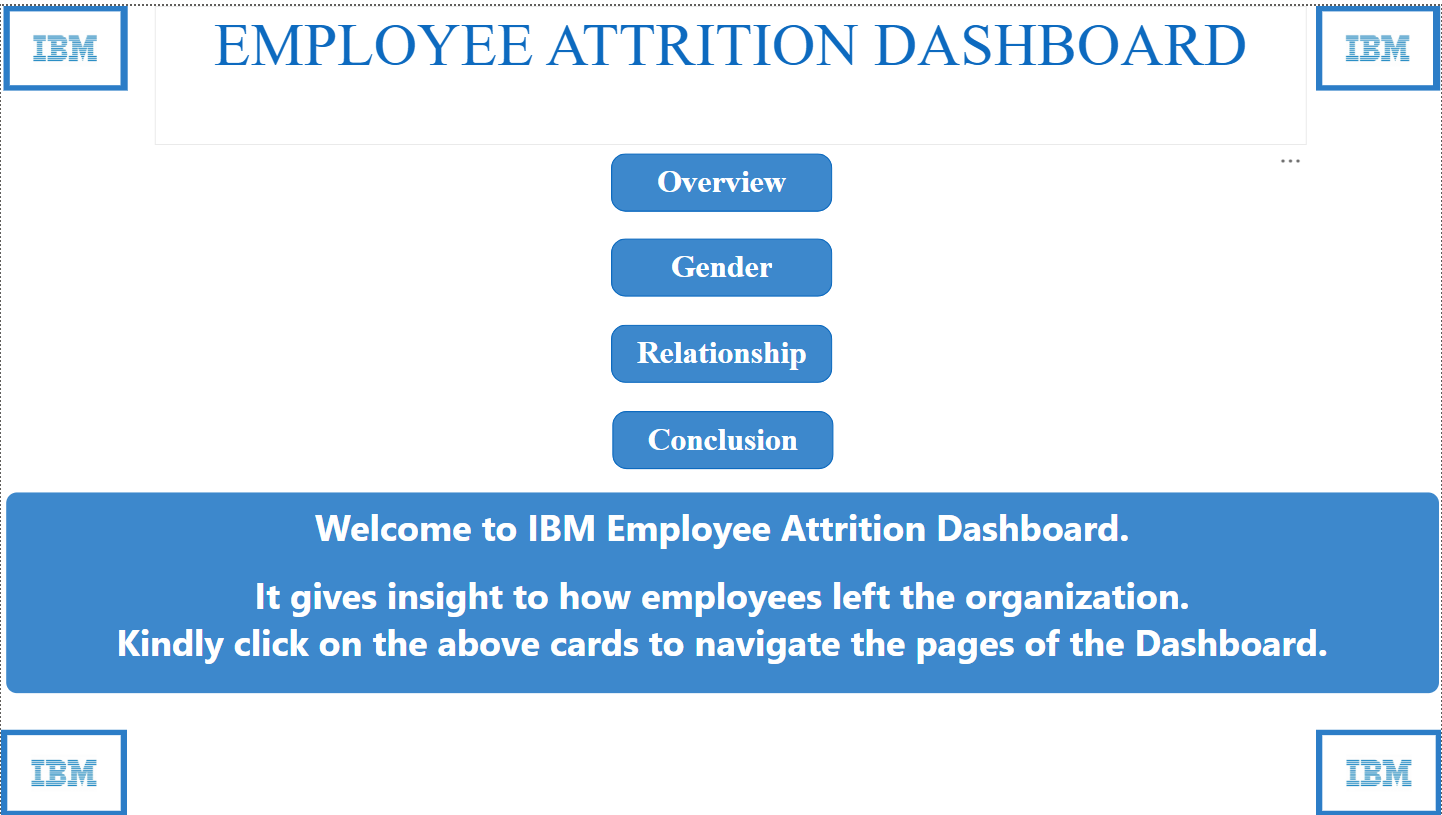

Layout of this report page (visuals, bound fields, positions):
{"tool":"powerbi","page":{"name":"Welcome","canvas":[1280,720],"ordinal":0},"visuals":[{"type":"image","box":[1.7,0,110,75],"z":0},{"type":"textbox","box":[136.7,0,1023.3,123.3],"z":1000},{"type":"image","box":[0,643.3,111.7,76.7],"z":2000},{"type":"shape","title":"Overview","box":[541.7,131.3,196.7,51.7],"z":3000},{"type":"shape","title":"Overview","box":[541.7,206.3,196.7,51.7],"z":4000},{"type":"shape","title":"Overview","box":[541.7,283,196.7,51.7],"z":5000},{"type":"shape","title":"Overview","box":[543.3,360,196.7,51.7],"z":6000},{"type":"textbox","box":[1.7,430,1278.3,183.3],"z":7000},{"type":"image","box":[1168.3,0,110,75],"z":8000},{"type":"image","box":[1169,643.3,111.7,76.7],"z":9000}]}

Visuals, with their boxes in screenshot pixels (x1, y1, x2, y2), scaled from the page's 1280x720 canvas onto the 1442x815 screenshot:
image: <bbox>2, 0, 126, 85</bbox>
textbox: <bbox>154, 0, 1307, 140</bbox>
image: <bbox>0, 728, 126, 814</bbox>
"Overview" shape: <bbox>610, 149, 832, 207</bbox>
"Overview" shape: <bbox>610, 234, 832, 292</bbox>
"Overview" shape: <bbox>610, 320, 832, 379</bbox>
"Overview" shape: <bbox>612, 408, 834, 466</bbox>
textbox: <bbox>2, 487, 1441, 694</bbox>
image: <bbox>1316, 0, 1440, 85</bbox>
image: <bbox>1317, 728, 1441, 814</bbox>
